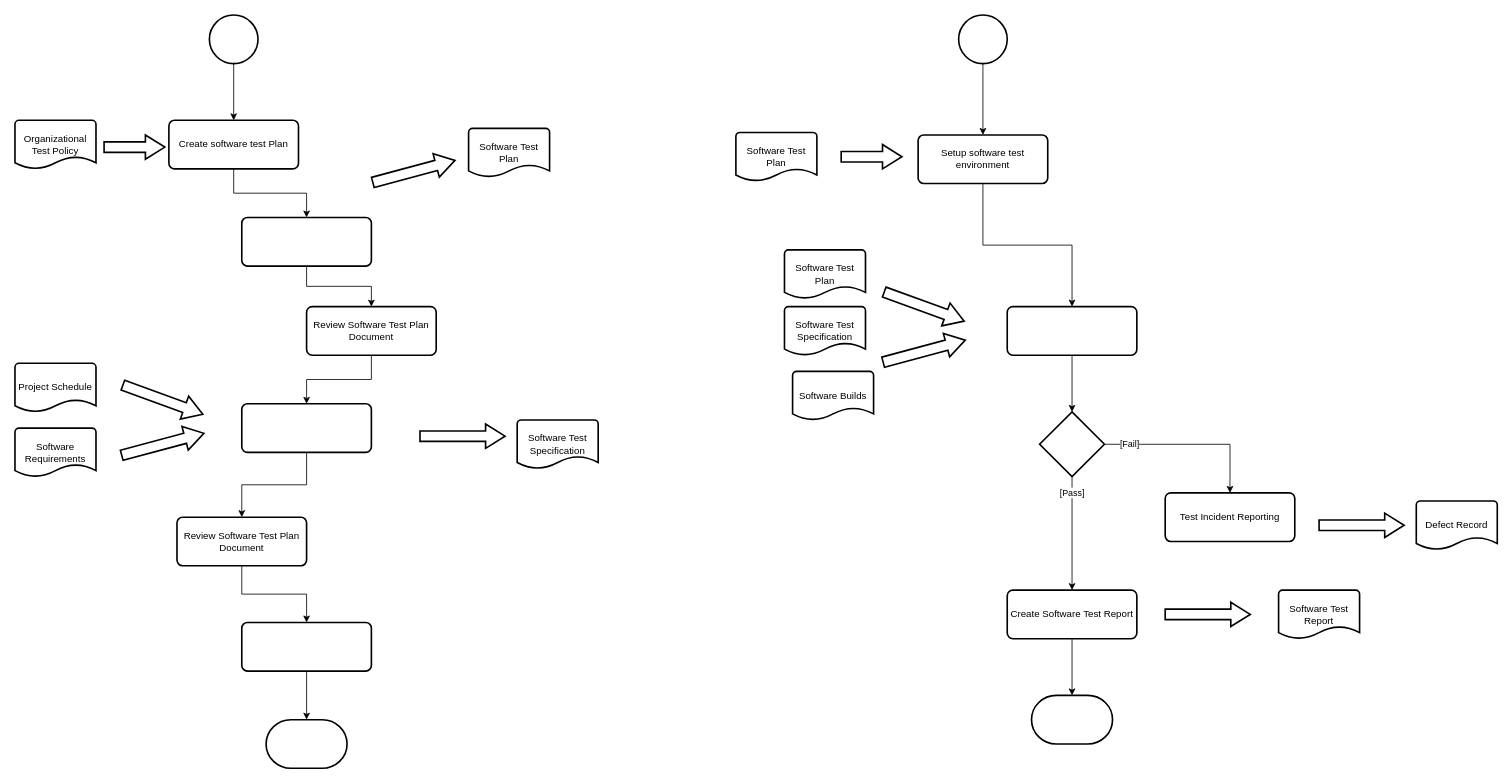
The diagram is 1511 pixels wide and 782 high, and some of its shapes have lost their labels. Each missing label, with the centre of its shape:
"Create Test Specification and Test Scripts" goes at (x=306, y=428).
"Create Test Strategy" goes at (x=306, y=241).
"Create traceability to software requirements" goes at (x=306, y=646).
"Perform Software Tests" goes at (x=1071, y=330).
"Test Result" goes at (x=1071, y=444).
